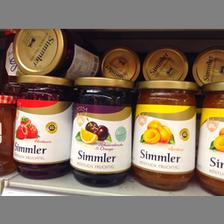Marmelade: (69, 75, 134, 187), (132, 82, 196, 190), (12, 75, 72, 179), (195, 81, 223, 191)
